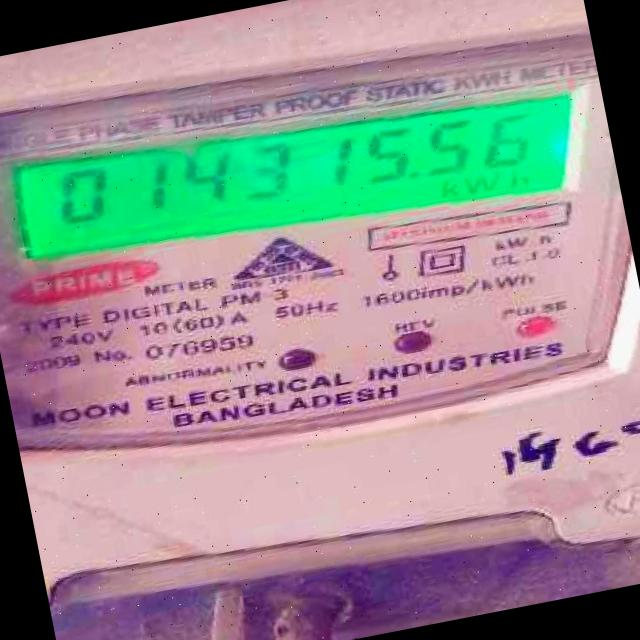LCD: (0, 43, 607, 304)
